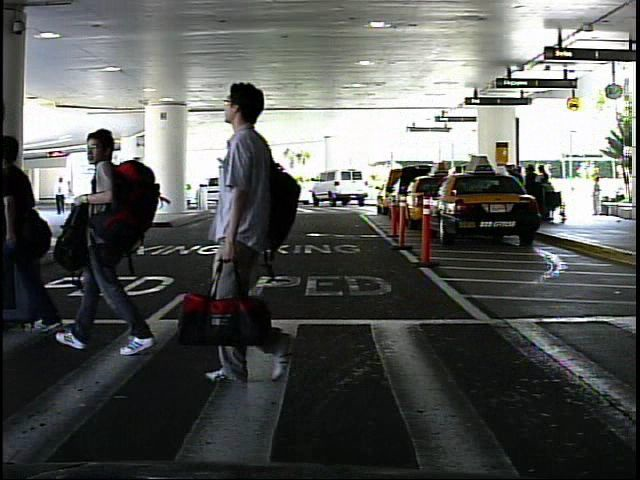person: (205, 73, 312, 391), (61, 119, 160, 358), (3, 115, 64, 355), (588, 173, 607, 219), (53, 171, 70, 218)
